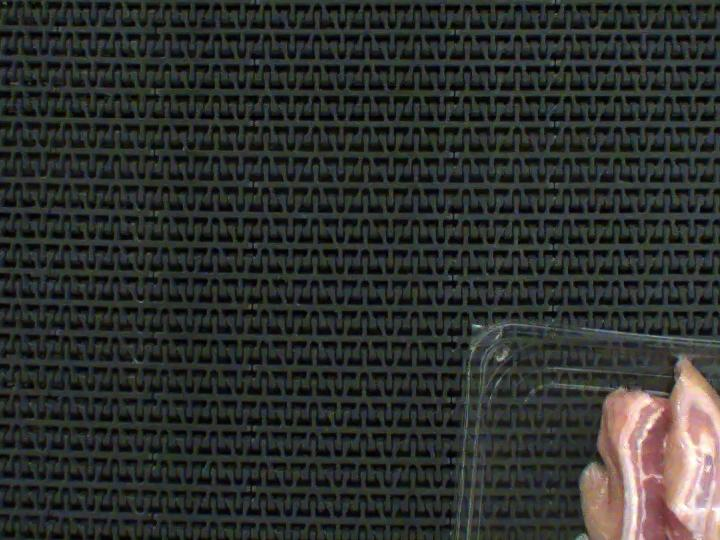packaging-error: (658, 303, 720, 420)
